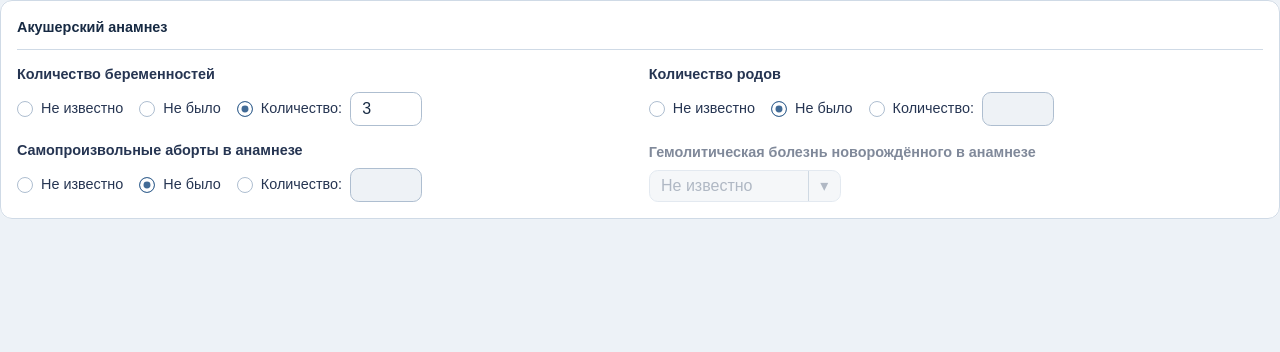
Test: resets newborn history when births change to Не было and enables it after a positive count
Earlier steps of the test are not shown.
expect the text "Не известно" below "Количество беременностей" is shown: met, box [41,100,123,116]
Click the radio button labelled "Количество:" below "Количество родов": (877, 109) [869,101,885,117]
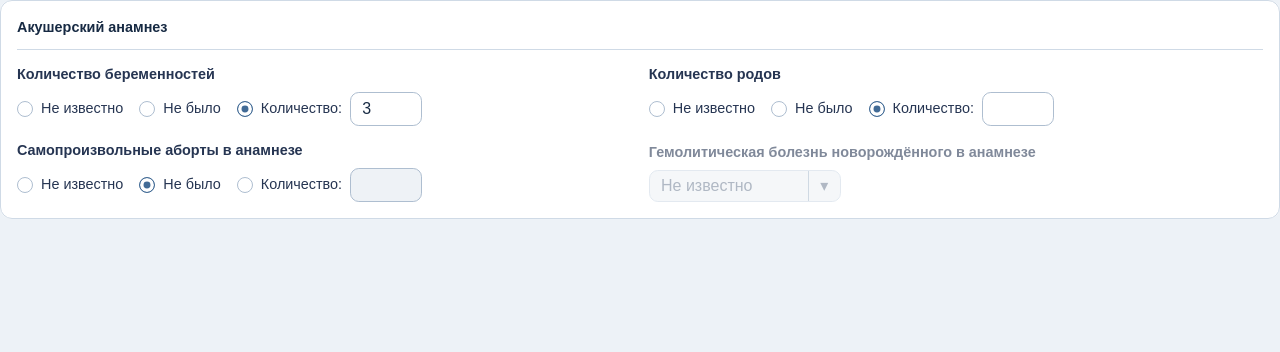
In the number field named "Количество: Количество родов": (1018, 109) [982,92,1054,126], type "1"
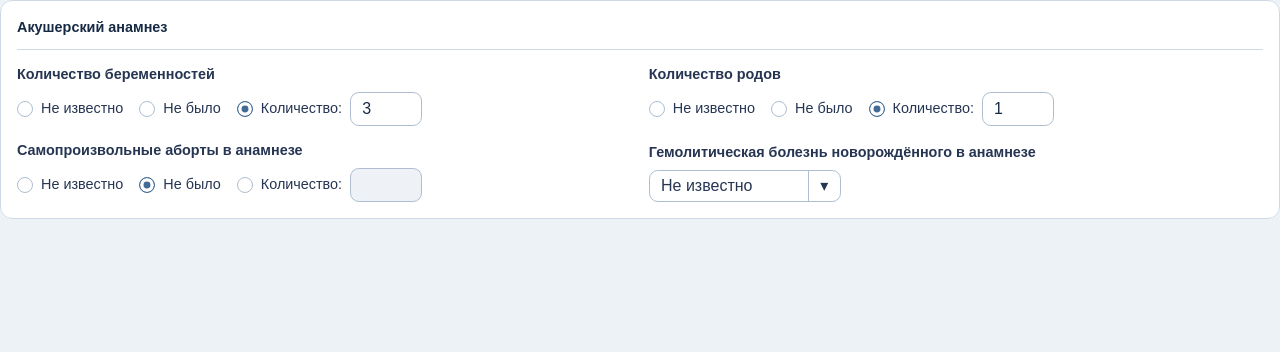
Click the button with aria-label "Гемолитическая болезнь новорождённого в анамнезе": (745, 186) [649,170,841,202]
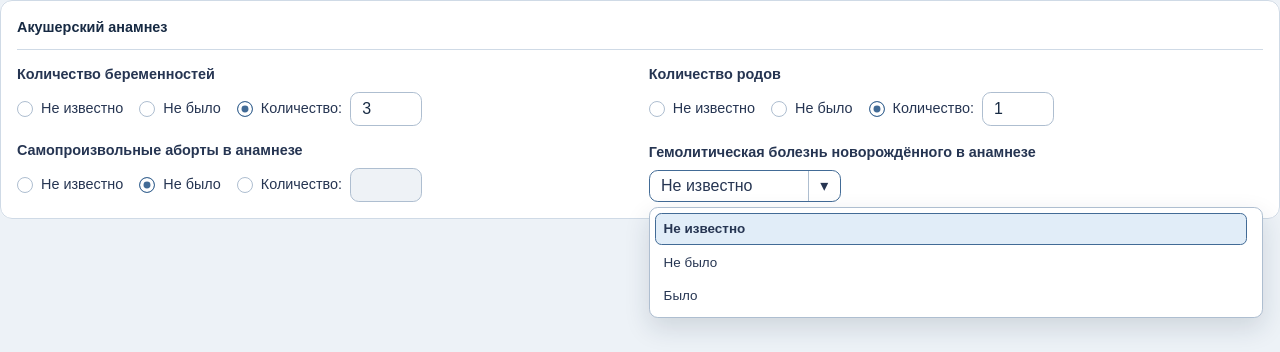
Click the option "Не было": (690, 262) [655,246,1247,278]
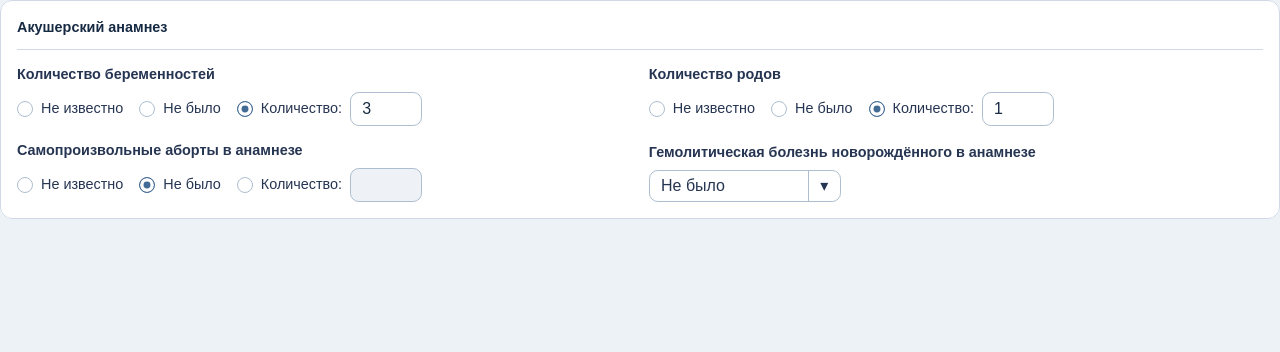
expect the text "Не было" below "Количество беременностей" is shown: met, box [163,100,221,116]
Click the button with aria-label "Гемолитическая болезнь новорождённого в анамнезе": (745, 186) [649,170,841,202]
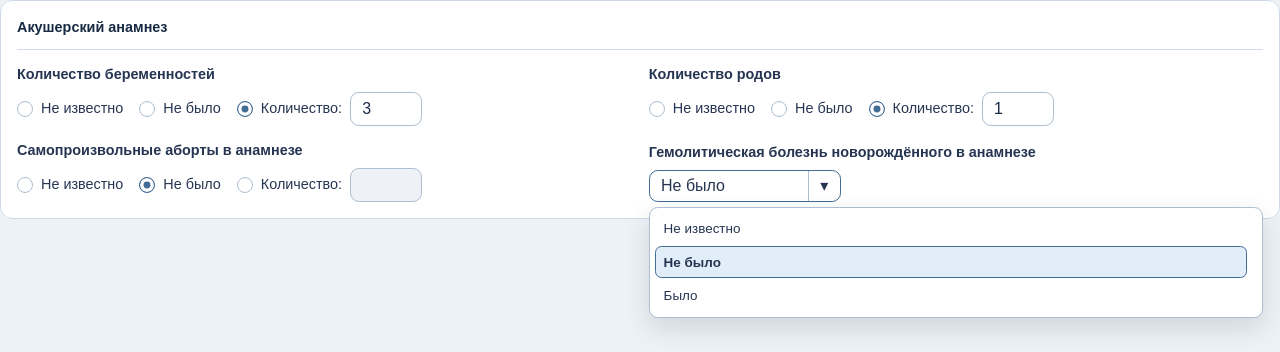
Click the option "Было": (681, 296) [655,280,1247,312]
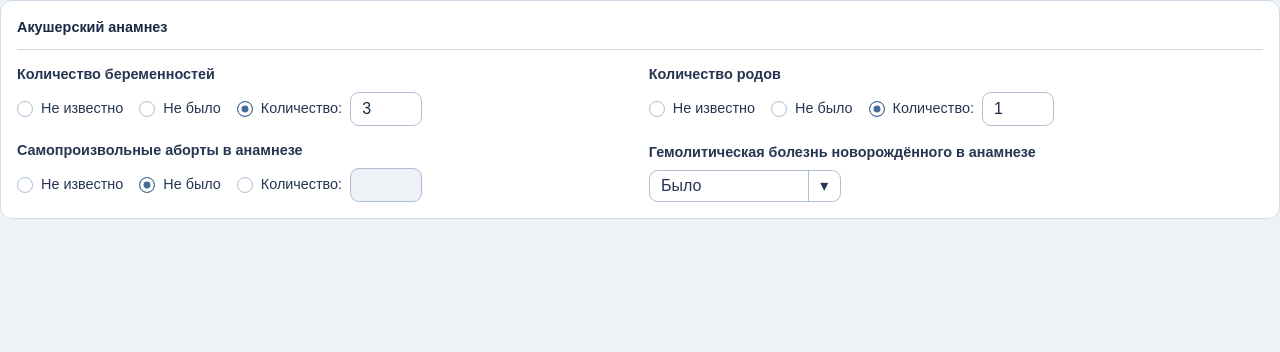
expect the text "Было" is shown: met, box [661,177,701,194]
